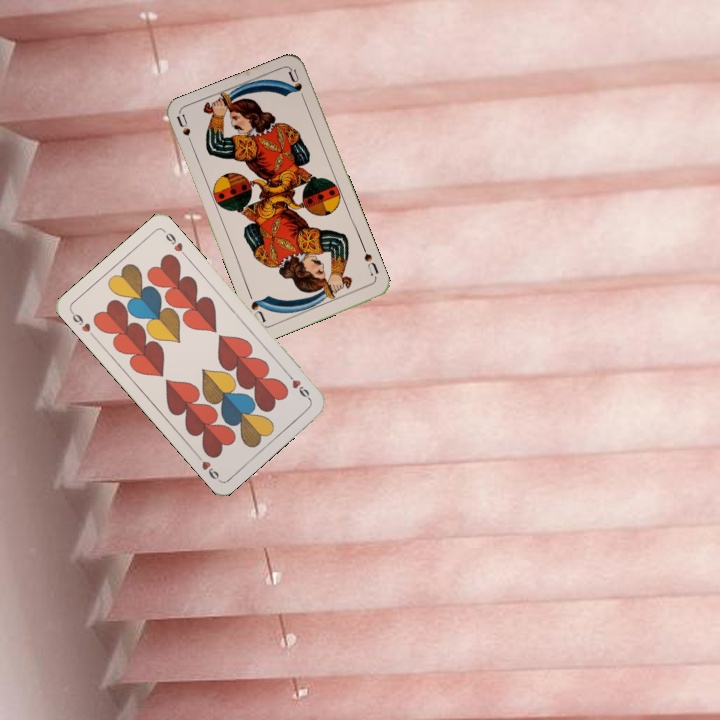H9: (67, 307, 98, 341), (283, 369, 313, 403)
SU: (173, 111, 197, 151), (358, 242, 381, 278)
